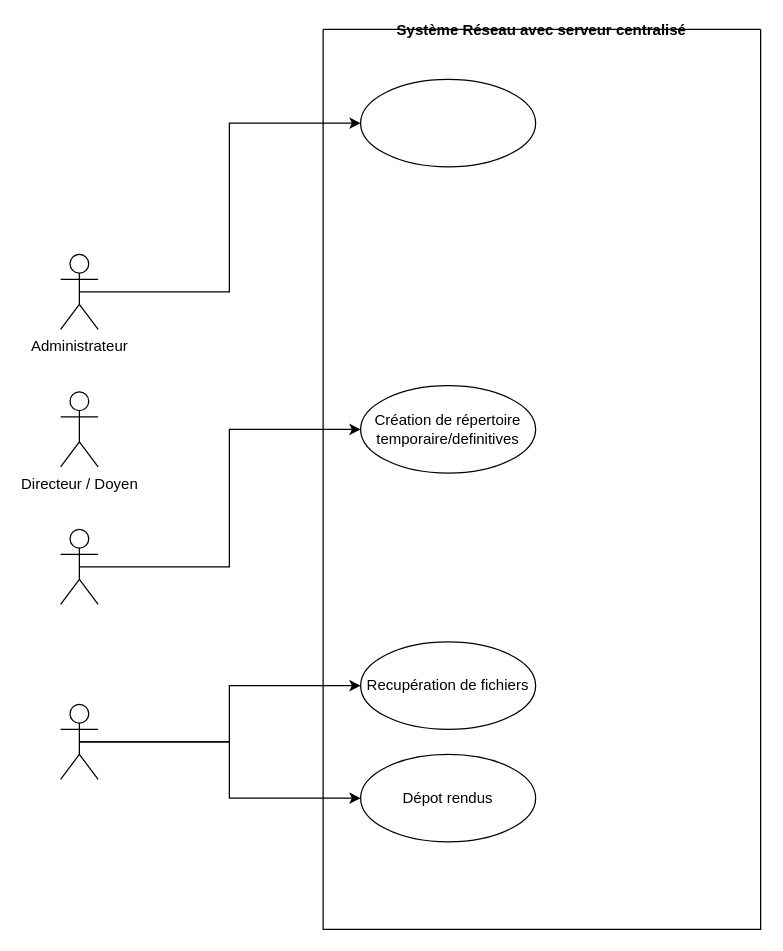
The diagram is 783 pixels wide and 951 high, and some of its shapes have lost their labels. Here are the shapes that lost their labels. From the top down, the box of each, then its label:
(359, 78, 536, 167): Ajout Compte
(59, 528, 98, 604): Professeur
(59, 703, 98, 779): Eleve / Etudiant
